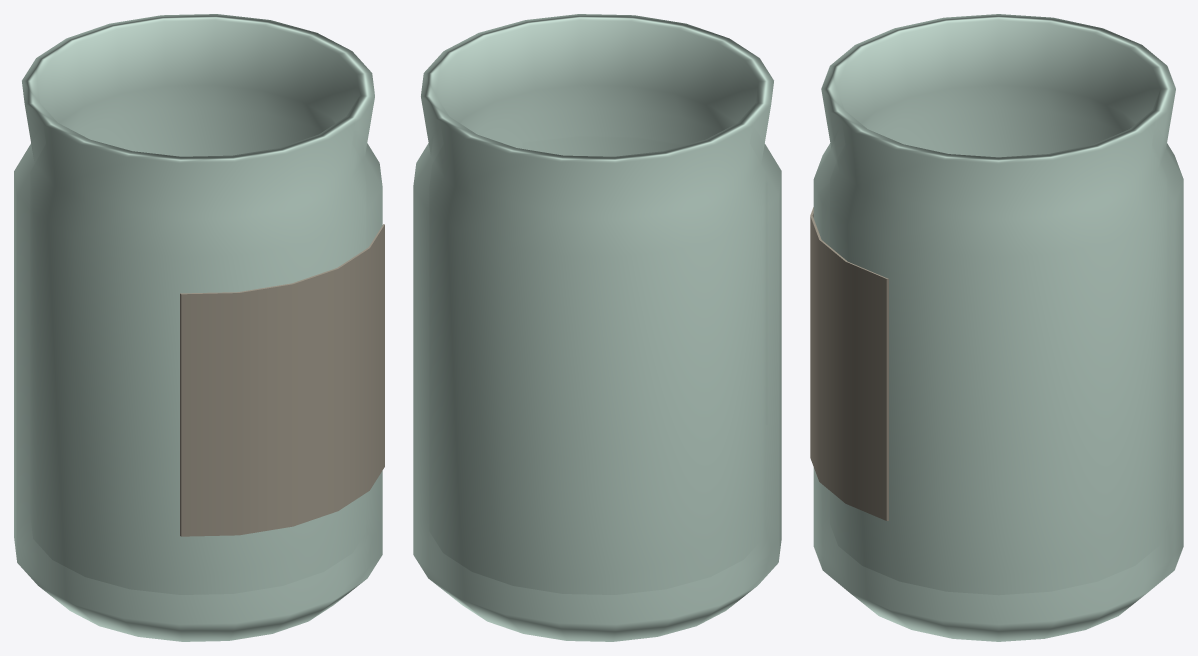
File: Jar_Label_02.fbx
3 views of the same model, side by side, from view 1: azimuth 30°, elevation 25°; view 2: azimuth 150°, elevation 25°; view 3: azimuth 270°, elevation 25° (orthographic).
Visible parts, largest first — view 1: pCylinder32; view 2: pCylinder32; view 3: pCylinder32.
Boxes of the visible parts, x1,y1,x2,y2 form: pCylinder32: [14, 14, 384, 641]; pCylinder32: [413, 14, 781, 641]; pCylinder32: [810, 14, 1183, 641].
Size of the model in its own units: 5.56 by 8.13 by 5.61.
